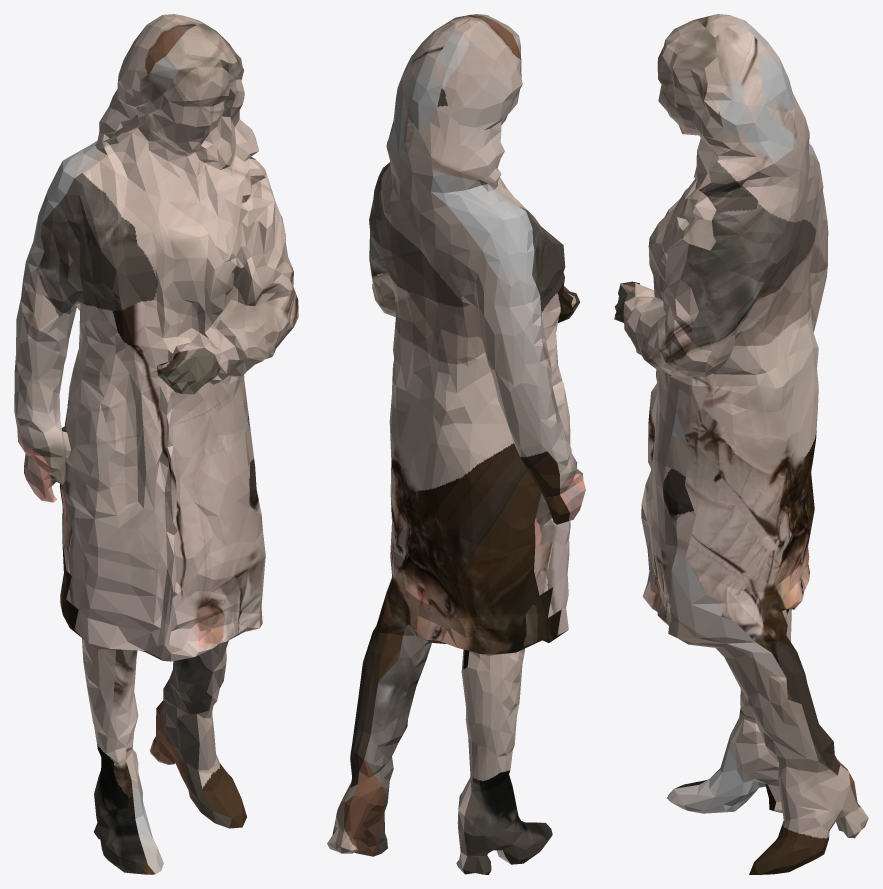
File: girl_12.glb
3 renders of one model, left to right at view 1: azimuth 30°, elevation 25°; view 2: azimuth 150°, elevation 25°; view 3: azimuth 270°, elevation 25°, orthographic. The views are drawn at different scales.
Parts seen in each view (by area): view 1: girl_12; view 2: girl_12; view 3: girl_12.
Boxes of the visible parts, left/top/right/bottom form: girl_12: left=14, top=14, right=298, bottom=874; girl_12: left=327, top=14, right=585, bottom=874; girl_12: left=614, top=14, right=868, bottom=874.
Size of the model in its own units: 0.4676 by 1.6 by 0.4481.
Materials: 1 (1 with a texture image).
